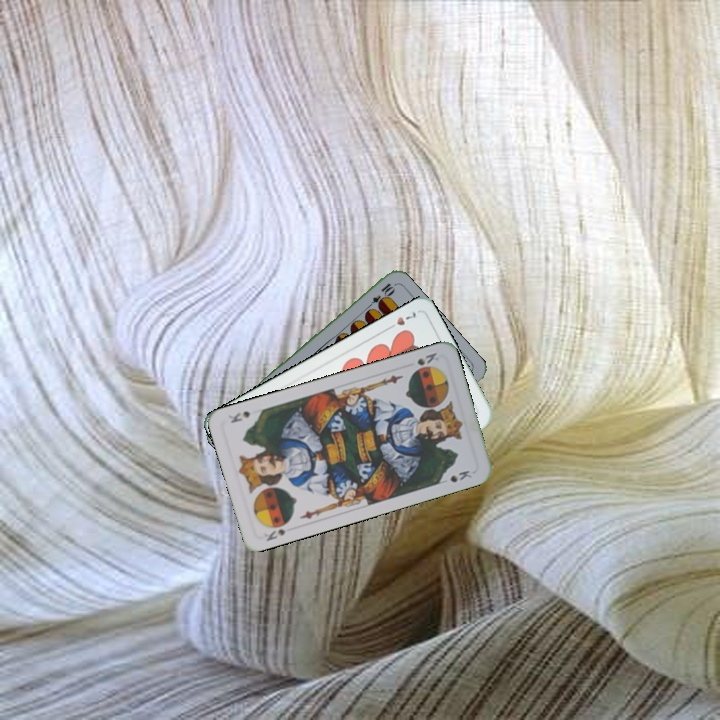E10: (362, 279, 397, 313)
H7: (383, 307, 419, 333)
SK: (260, 517, 293, 544), (413, 348, 441, 368)
